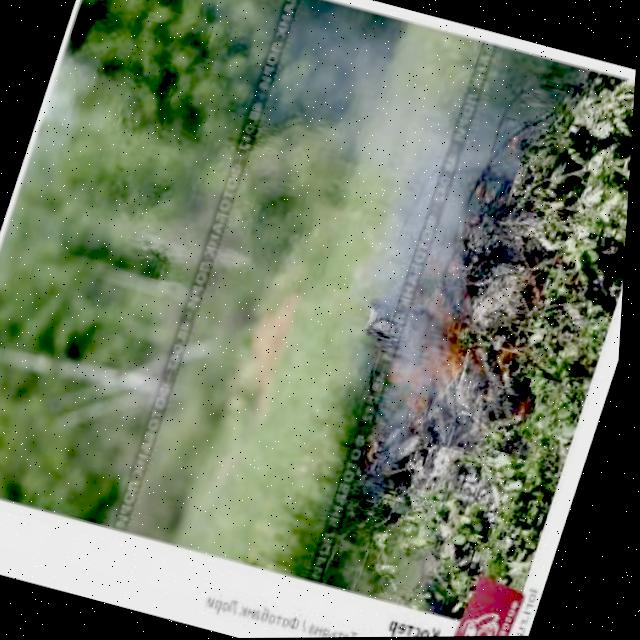Fire: (398, 281, 498, 394)
